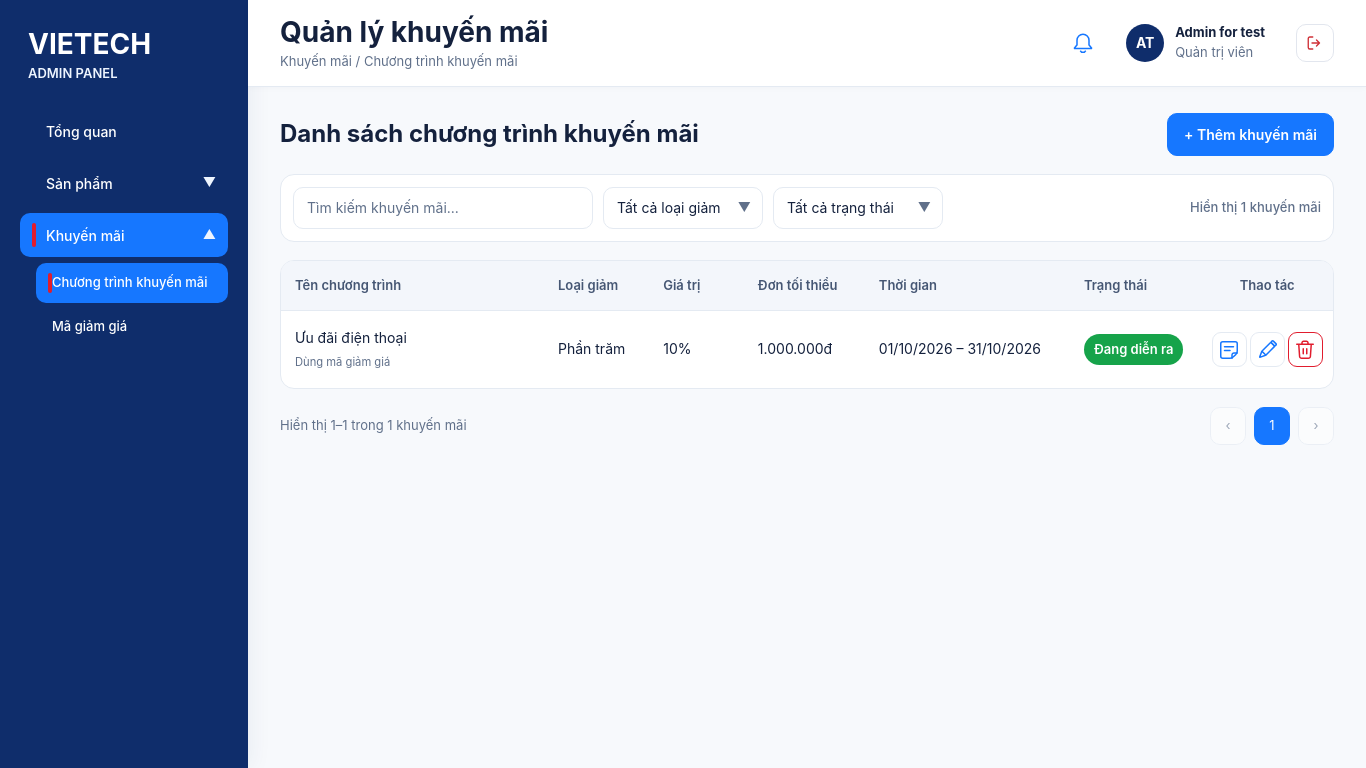
Scenario: Active program locks discount/time/scope but permits name edits
Click the button named "Sửa Ưu đãi điện thoại" at (1267, 350), box [1250, 332, 1285, 367]
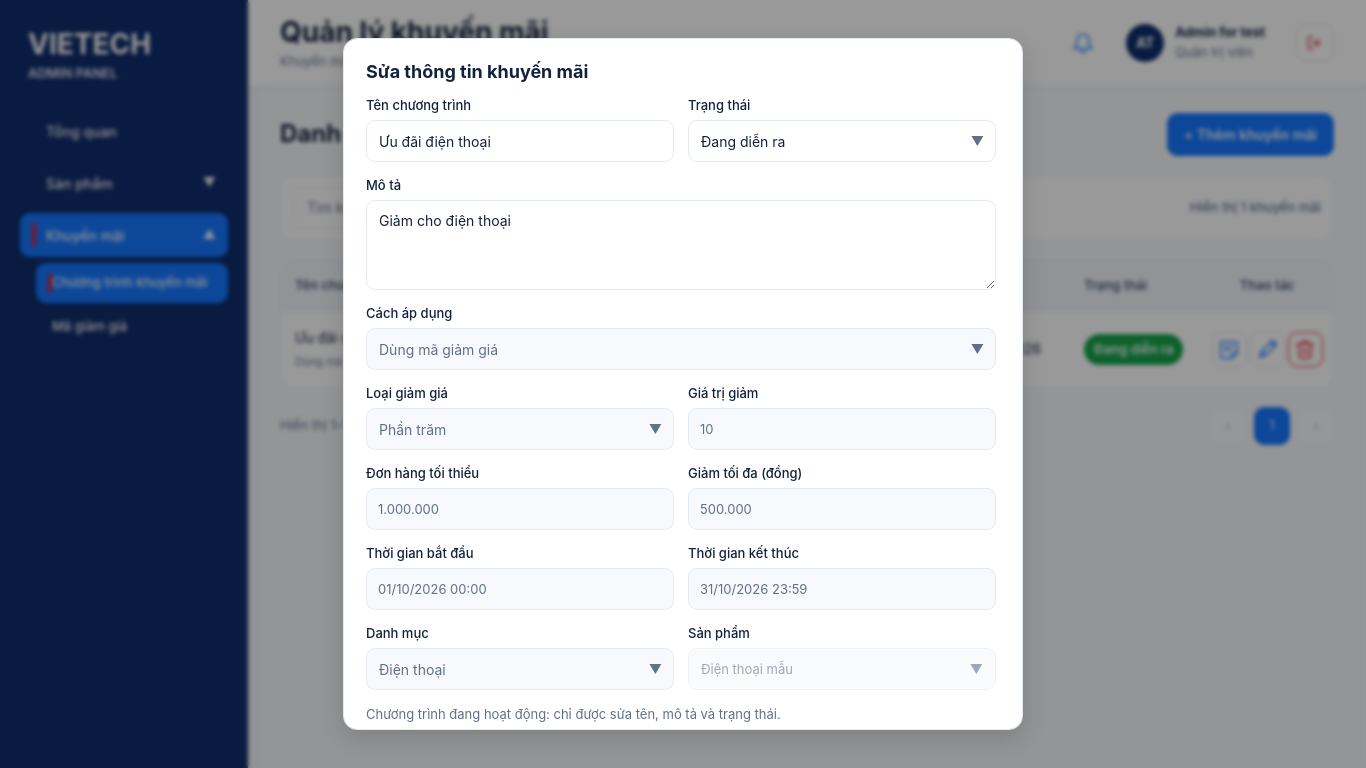
Now the field showing "Ưu đãi điện thoại" is shown
Now the number field labelled "Giá trị giảm" is disabled, box [688, 408, 996, 450]
Now the number field named "đơn tối thiểu" is disabled, box [366, 488, 674, 530]
Replace the text in the field labelled "Tên chương trình" with "Tên đã sửa" at (520, 141), box [366, 120, 674, 162]
(page scrolled)
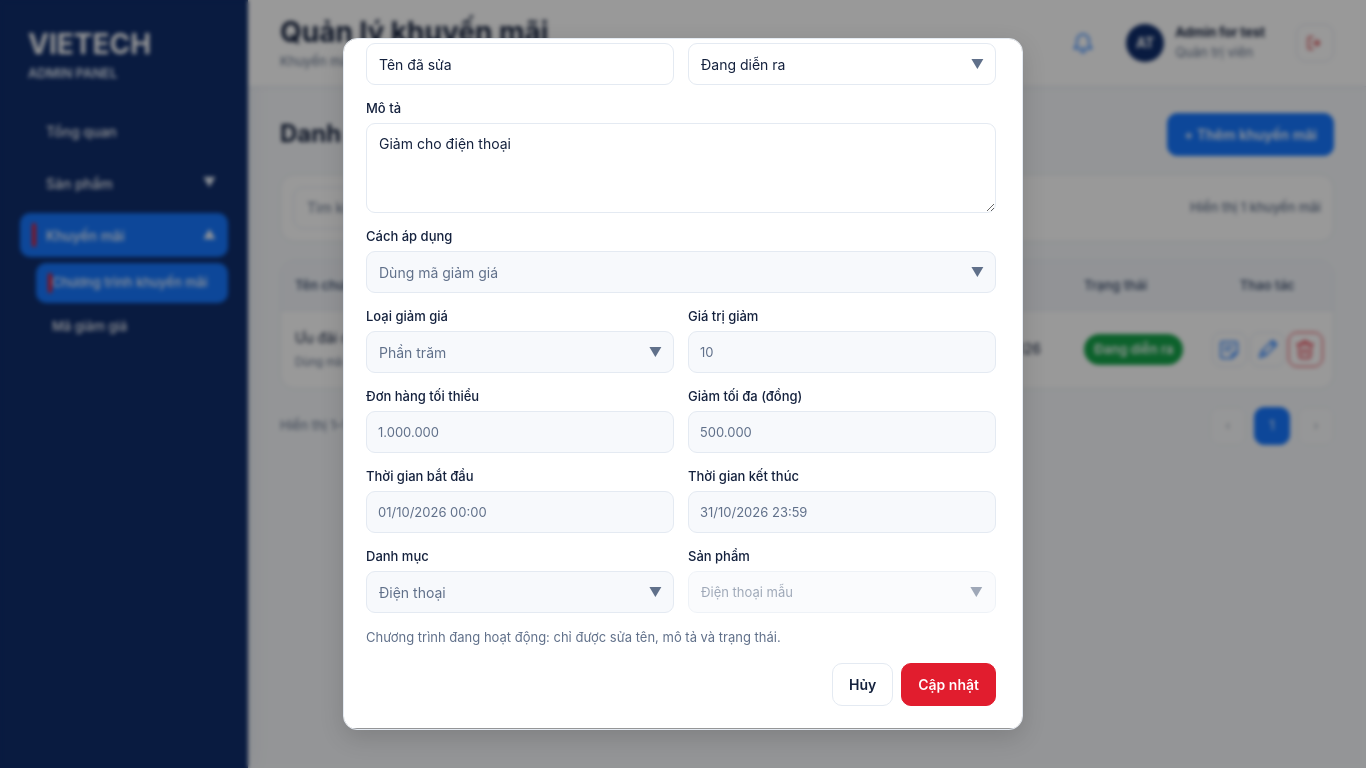
Click the button "Cập nhật" at (949, 684), box [901, 663, 996, 706]
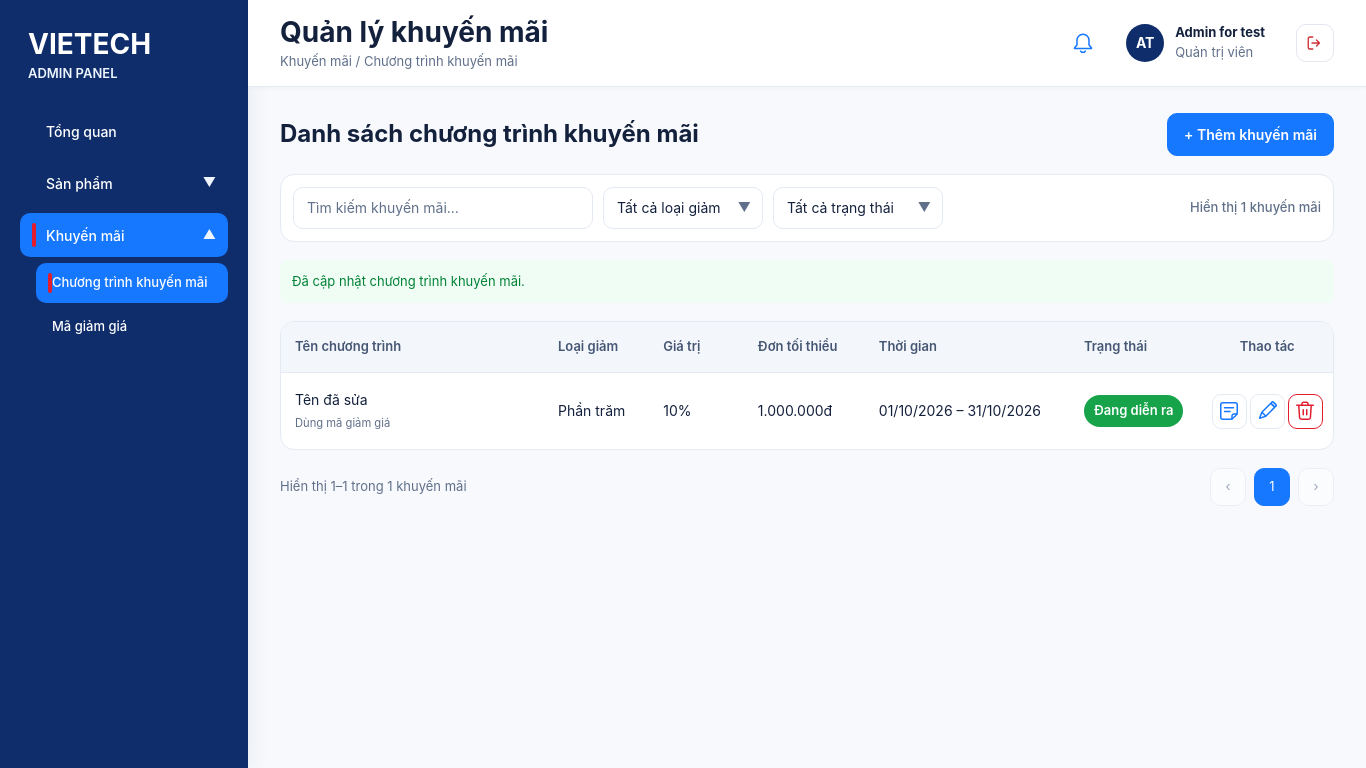
Now the text "Đã cập nhật chương trình khuyến mãi." is shown, box [280, 260, 1334, 303]
